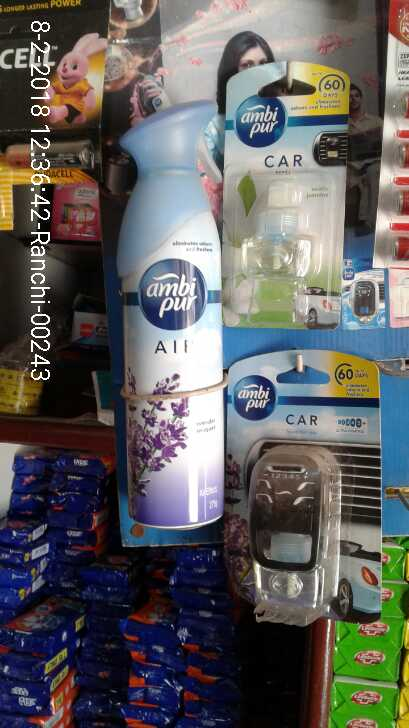ambipure: (114, 102, 225, 535), (225, 355, 389, 624), (218, 58, 346, 333)
